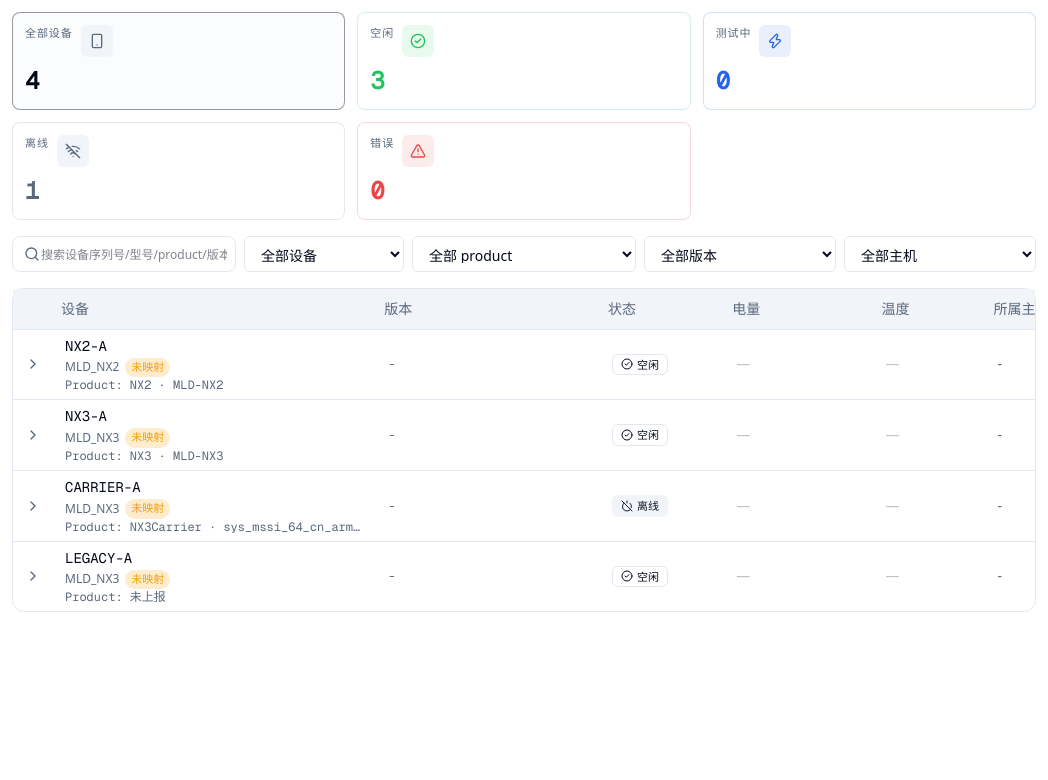
Scenario: distinguishes NX3Carrier by product and filters same-model devices
Expected: the text "Product: NX3Carrier · sys_mssi_64_cn_armv82" is shown, [65,519,364,535]
Expected: the text "Product: 未上报" is shown, [65,589,166,605]
Select "sys_mssi_64_cn_armv82" in the dropdown named "按 product 筛选" at (524, 254), box [412,236,636,272]
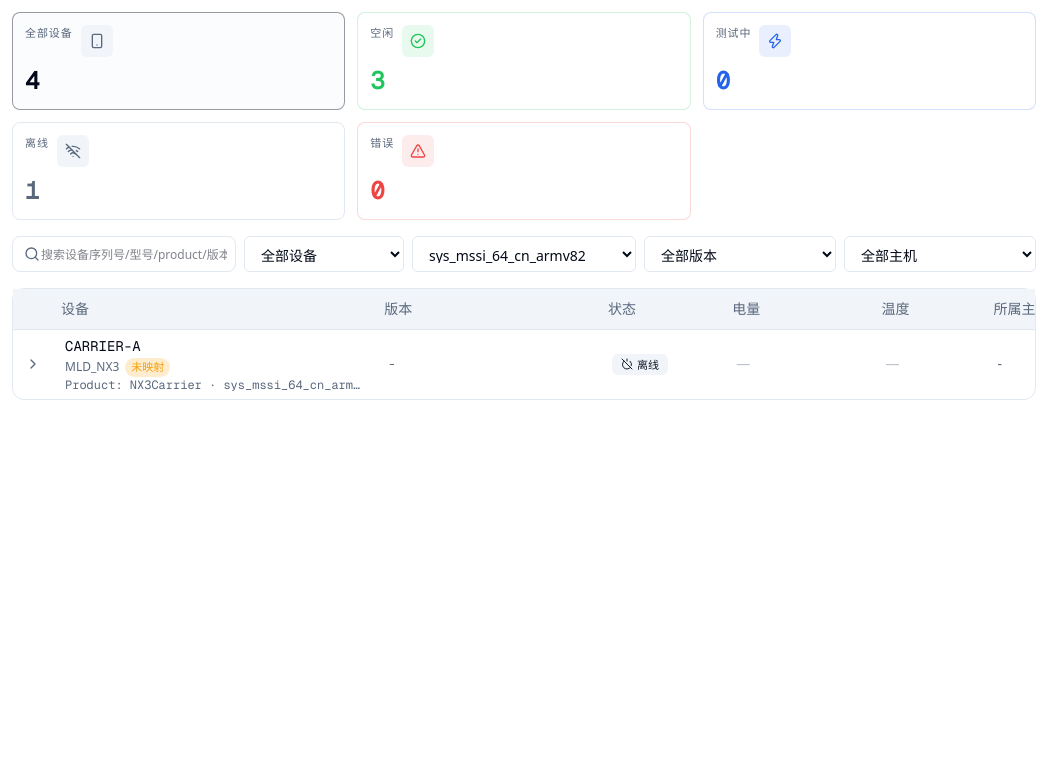
Expected: the text "CARRIER-A" is shown, [65,336,141,354]
Expected: the text "NX3-A" is gone
Select "全部 product" in the dropdown named "按 product 筛选" at (524, 254), box [412,236,636,272]
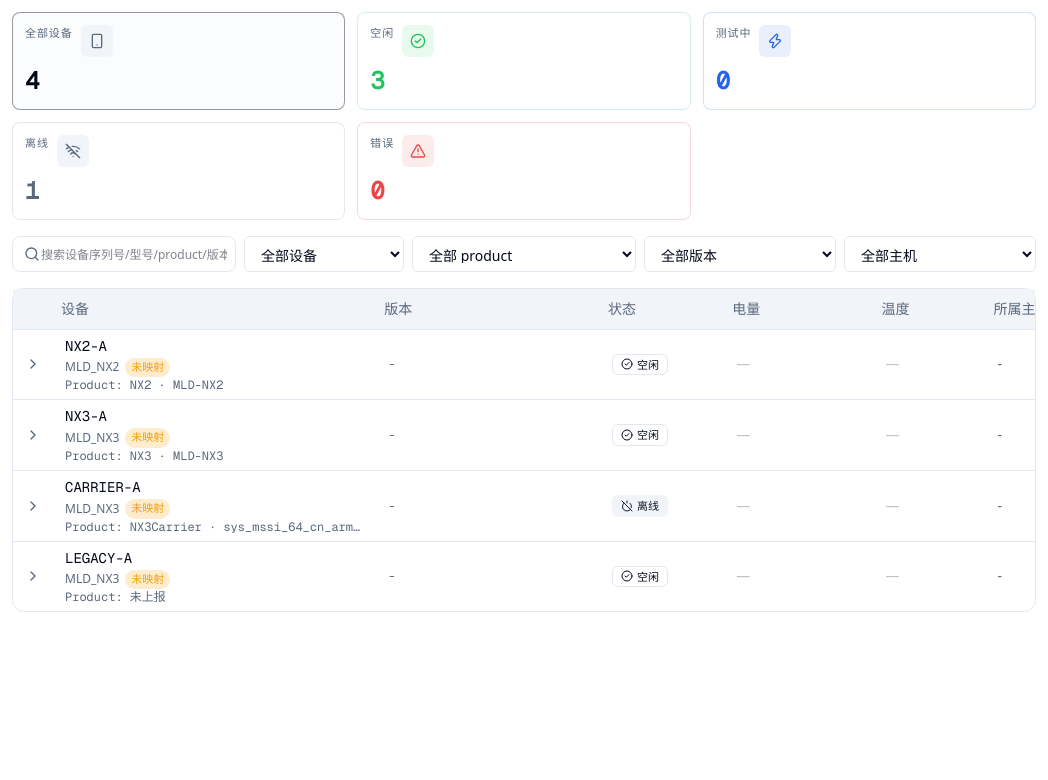
Type "NX3Carrier" into the field labelled "搜索设备".
click(124, 254); type("NX3Carrier")  # box [12,236,236,272]
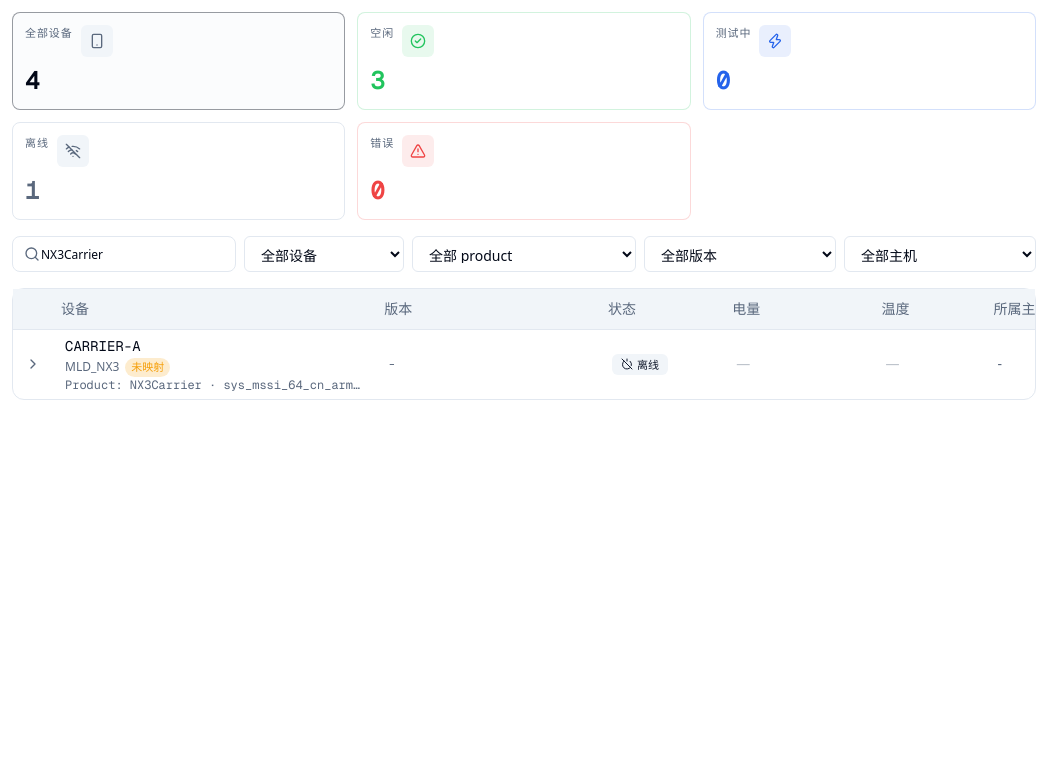
Expected: the text "CARRIER-A" is shown, [65,336,141,354]
Expected: the text "NX3-A" is gone
